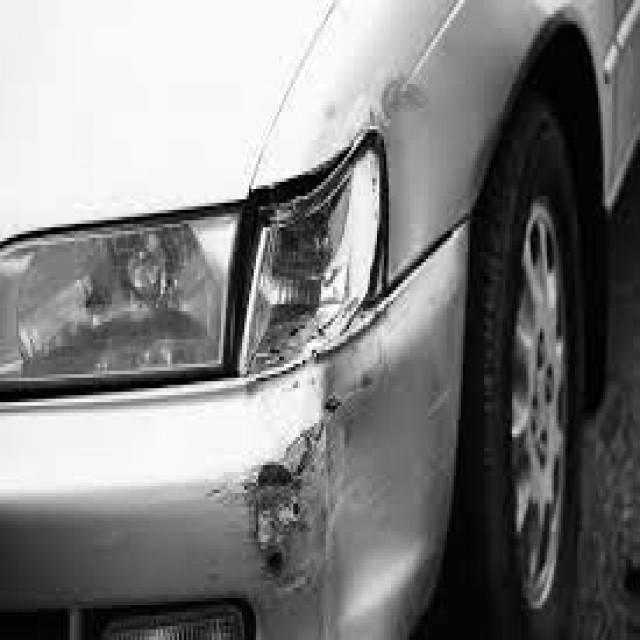Headlight-damage: (218, 102, 423, 385)
front-bumper-dent: (12, 382, 473, 637)
